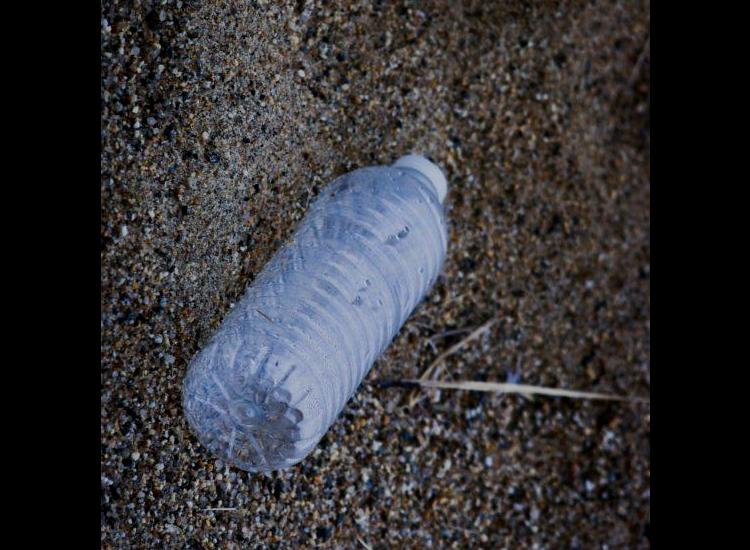bottle: (171, 138, 463, 476)
